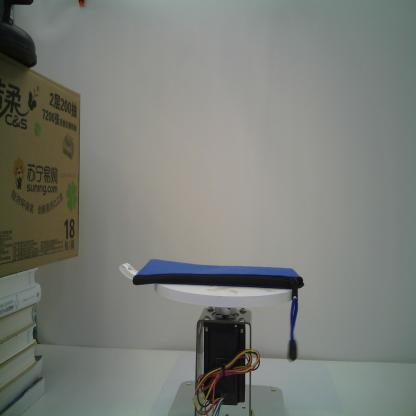Stationery: (133, 258, 304, 362)
